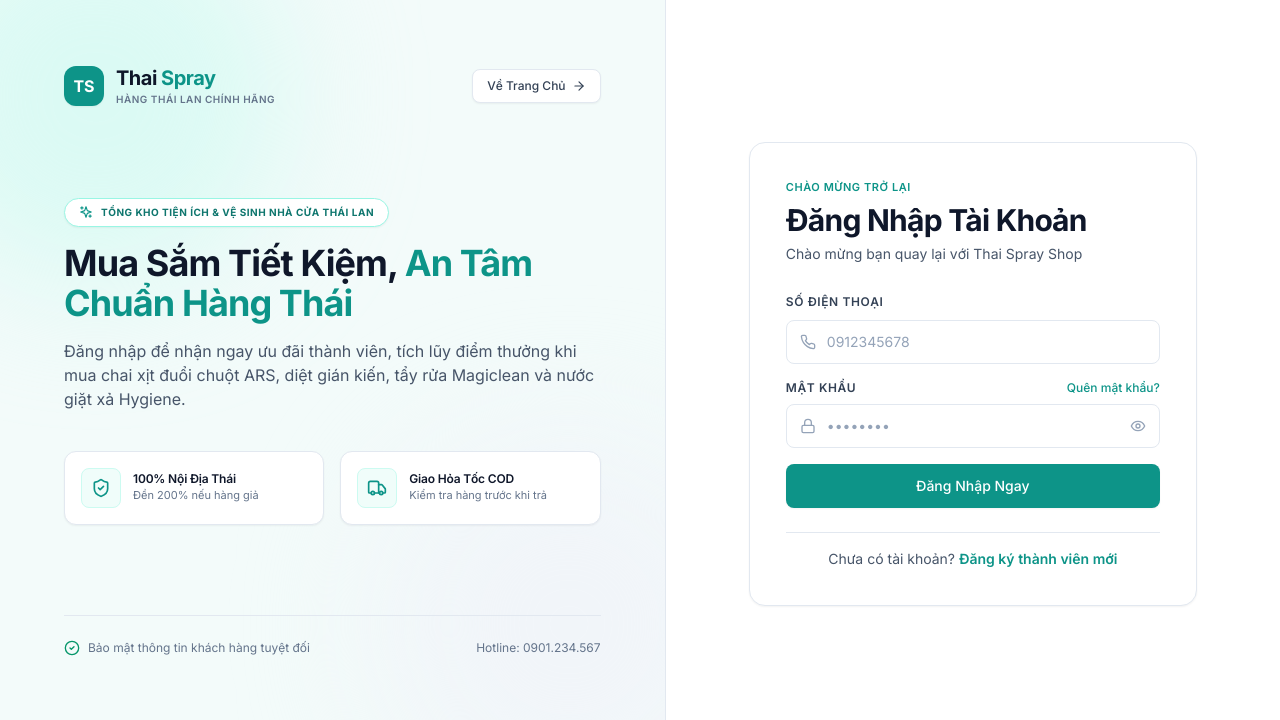
Test: LoginPage › displays validation error when phone number format is invalid
Type "12345" into the field with placeholder "0912345678". click: (973, 342)
box: [786,320,1160,364]
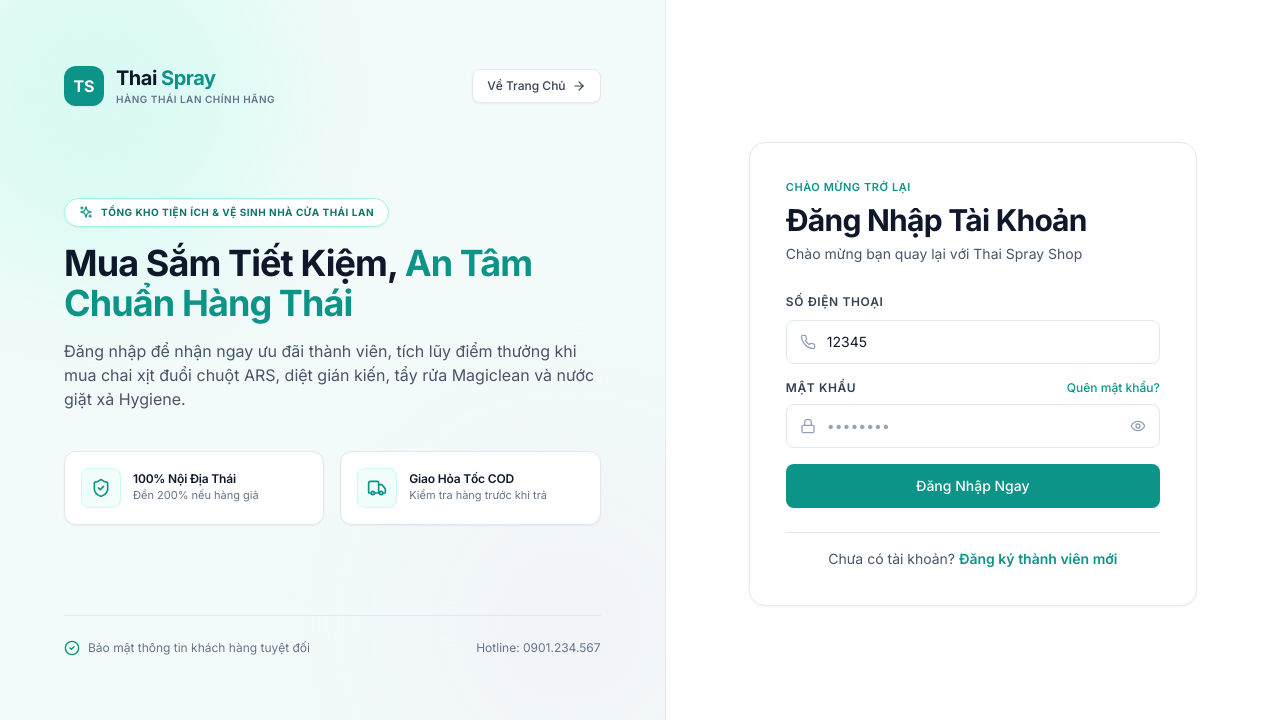
Type "validPassword123" into the password field with placeholder "••••••••". click: (973, 426)
box: [786,404,1160,448]
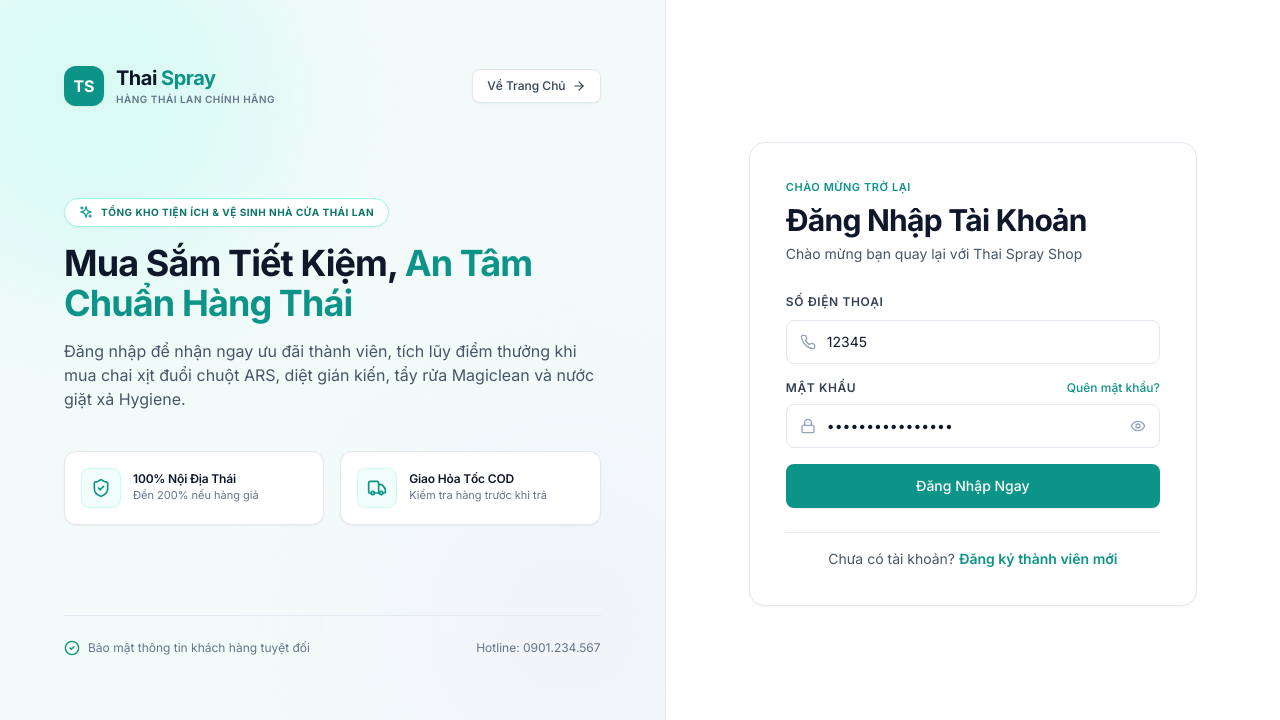
Click the button "Đăng Nhập Ngay". click: (973, 486)
box: [786,464,1160,508]
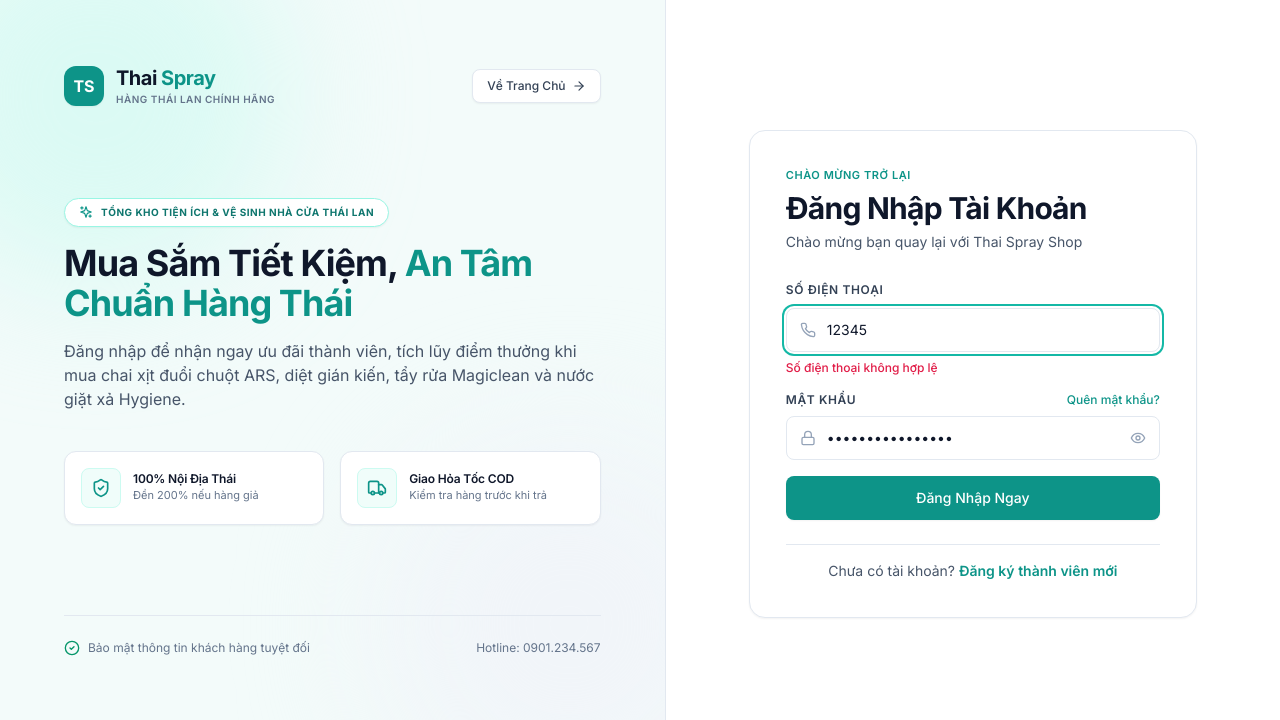
Result: the text "Số điện thoại không hợp lệ" is shown at [786,360,938,375]
